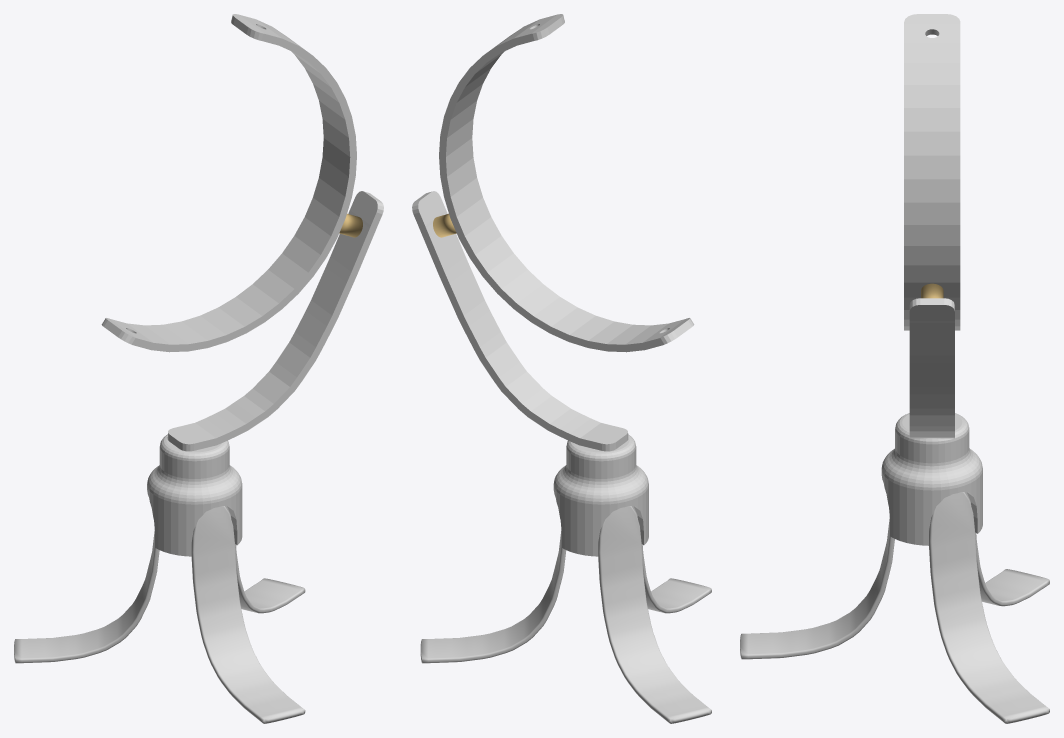
The model's file is GlobeHolder.fbx.
The picture shows the model from 3 angles, left to right: view 1: azimuth 30°, elevation 25°; view 2: azimuth 150°, elevation 25°; view 3: azimuth 270°, elevation 25°; orthographic projection. The views are drawn at different scales.
Visible parts, largest first — view 1: GlobeHolder, MainSupport, LegTemplate.001, CentralBase, LegTemplate.003, LegTemplate.002; view 2: GlobeHolder, MainSupport, LegTemplate.003, CentralBase, LegTemplate.002, LegTemplate.001; view 3: GlobeHolder, LegTemplate.002, CentralBase, MainSupport, LegTemplate.001, LegTemplate.003.
Part boxes in pixels (x1,y1,x2,y2): GlobeHolder: (101,14,356,352); MainSupport: (167,191,383,451); LegTemplate.001: (191,506,305,723); CentralBase: (147,434,242,556); LegTemplate.003: (14,530,159,663); LegTemplate.002: (235,544,305,613); GlobeHolder: (439,14,694,352); MainSupport: (412,191,628,451); LegTemplate.003: (598,506,711,723); CentralBase: (553,434,648,556); LegTemplate.002: (420,531,566,663); LegTemplate.001: (641,544,711,613); GlobeHolder: (904,14,960,330); LegTemplate.002: (929,492,1049,723); CentralBase: (881,413,982,545); MainSupport: (909,298,954,438); LegTemplate.001: (740,517,894,659); LegTemplate.003: (975,532,1049,606).
Size of the model in its own units: 71 by 129 by 54.96.
